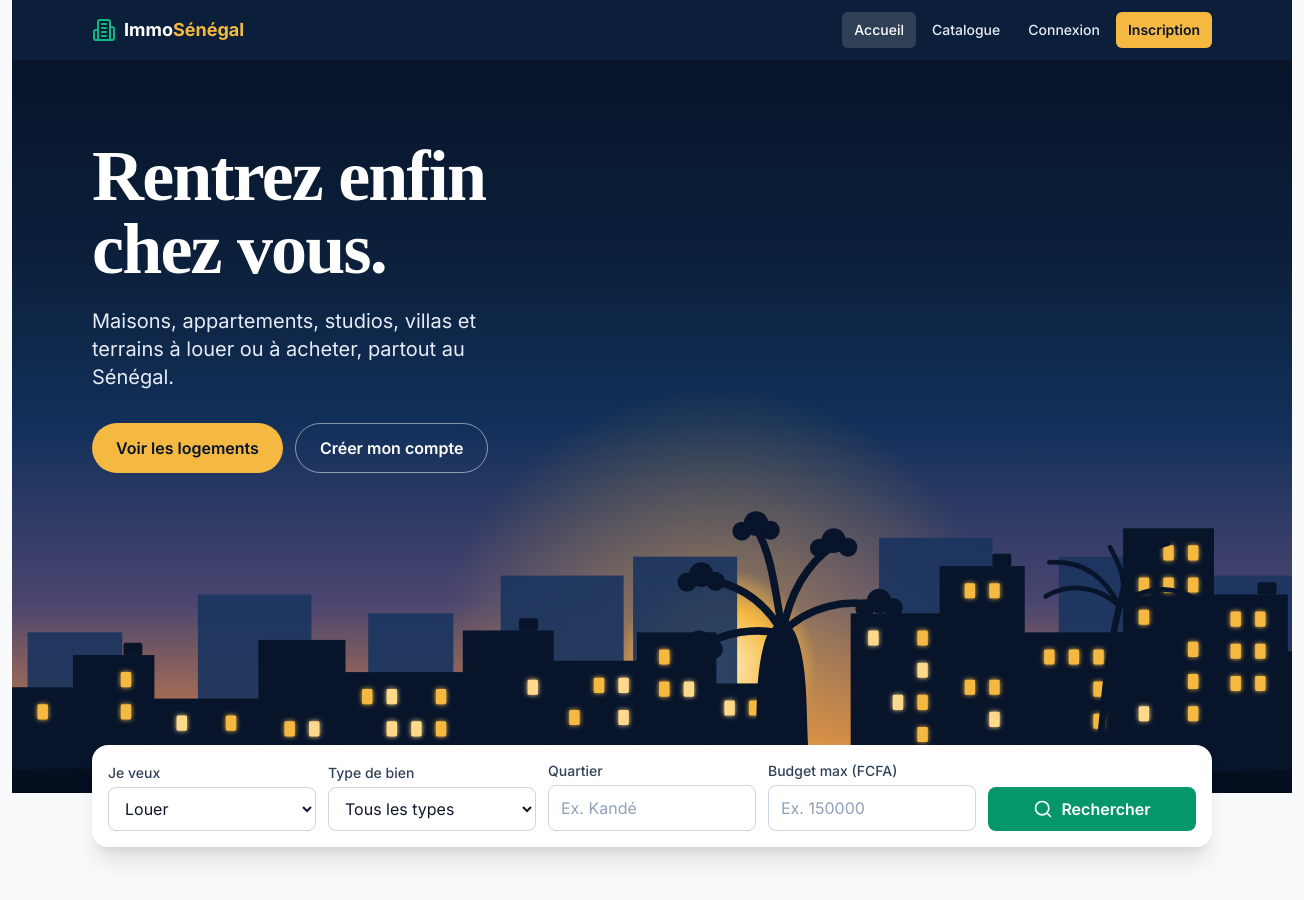
Scenario: Accueil › la recherche envoie les critères saisis vers le catalogue et vers l'API
The width and height of the screenshot is (1304, 900).
Select "Acheter" in the dropdown labelled "Je veux" at (212, 809), box [108,787,316,831]
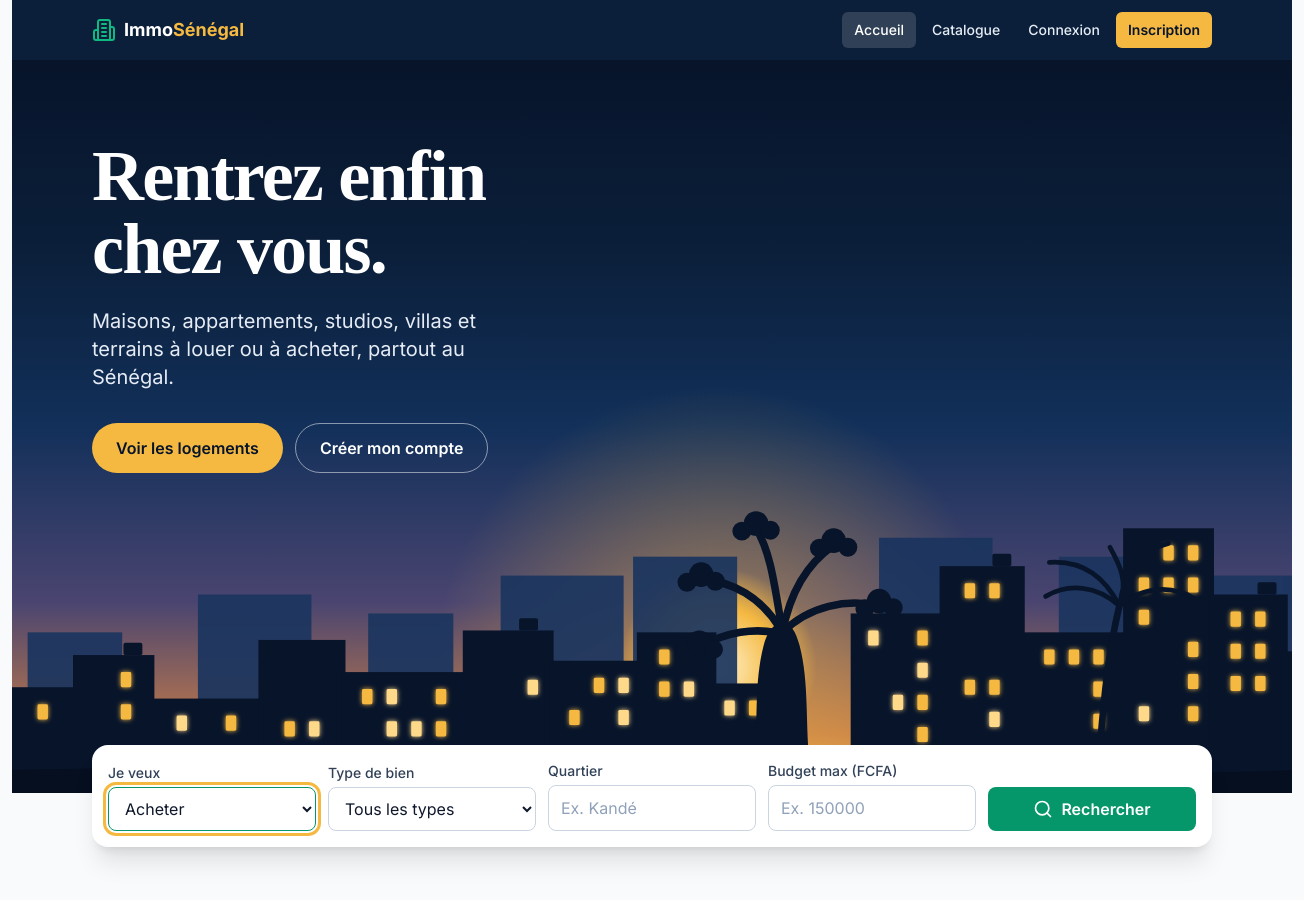
Select "Villa" in the dropdown labelled "Type de bien" at (432, 809), box [328,787,536,831]
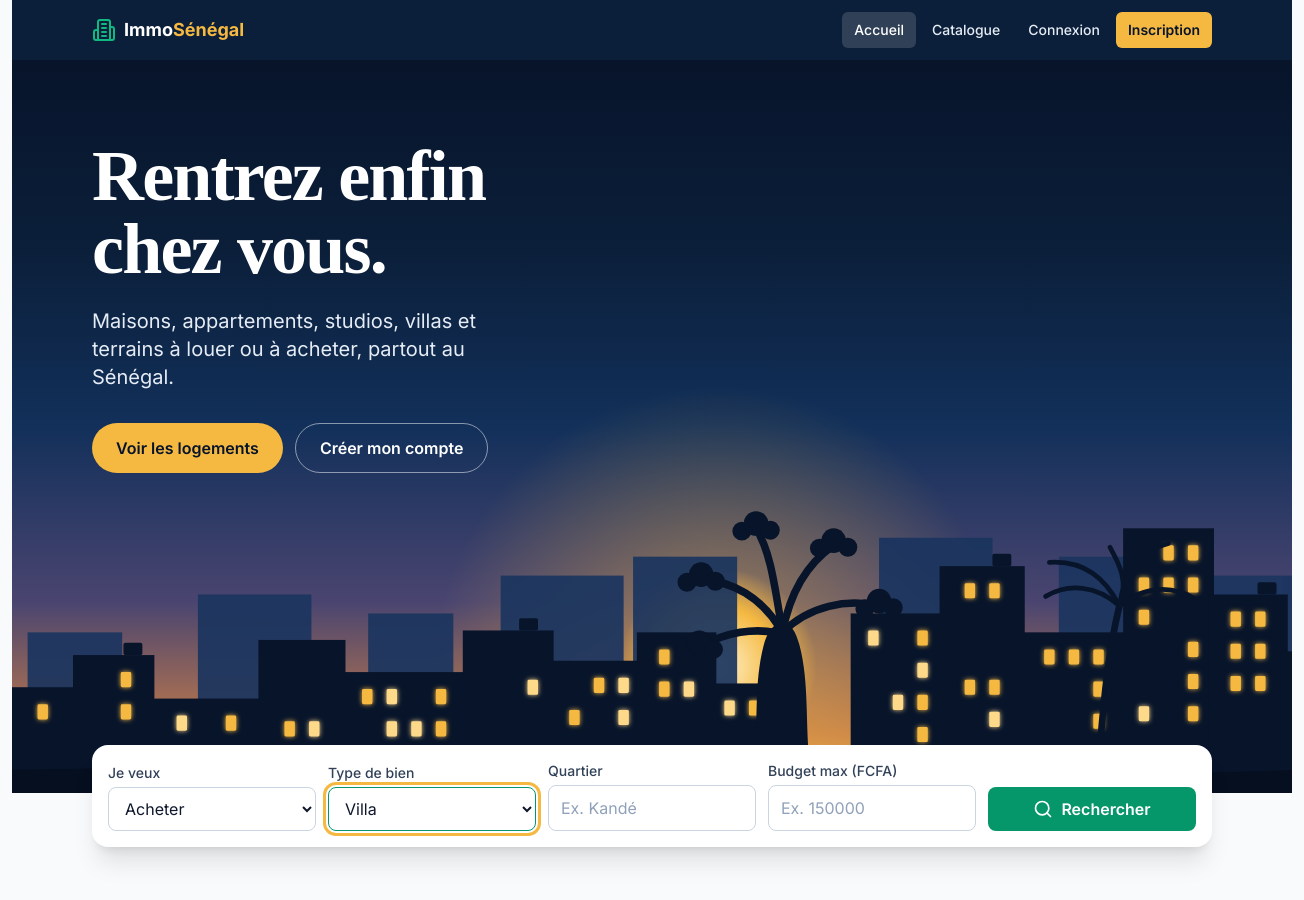
Type "Néma" into the field labelled "Quartier".
click(652, 808); type("Néma")  # box [548,785,756,831]
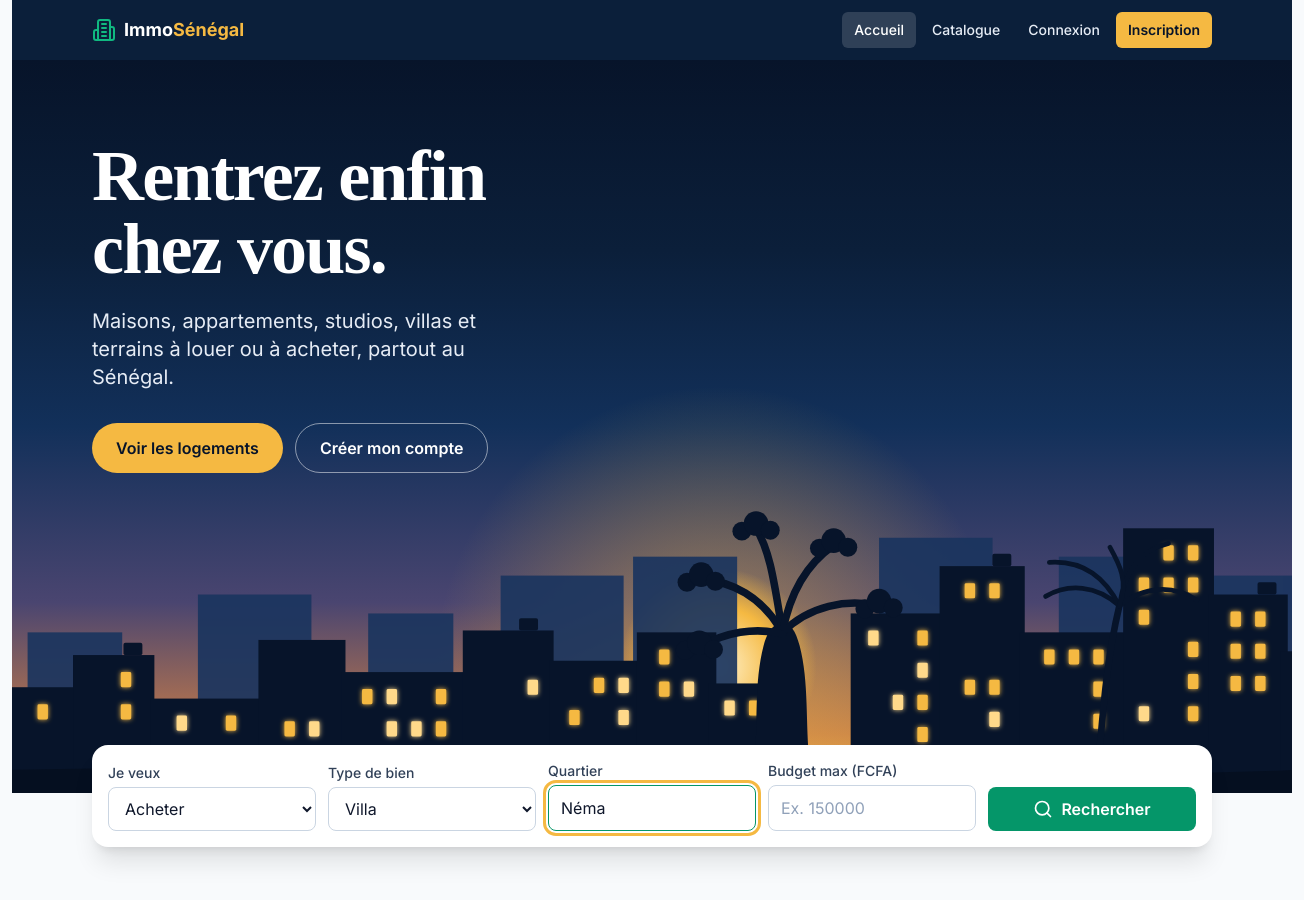
Type "50000000" into the number field labelled "Budget max (FCFA)".
click(872, 808); type("50000000")  # box [768,785,976,831]
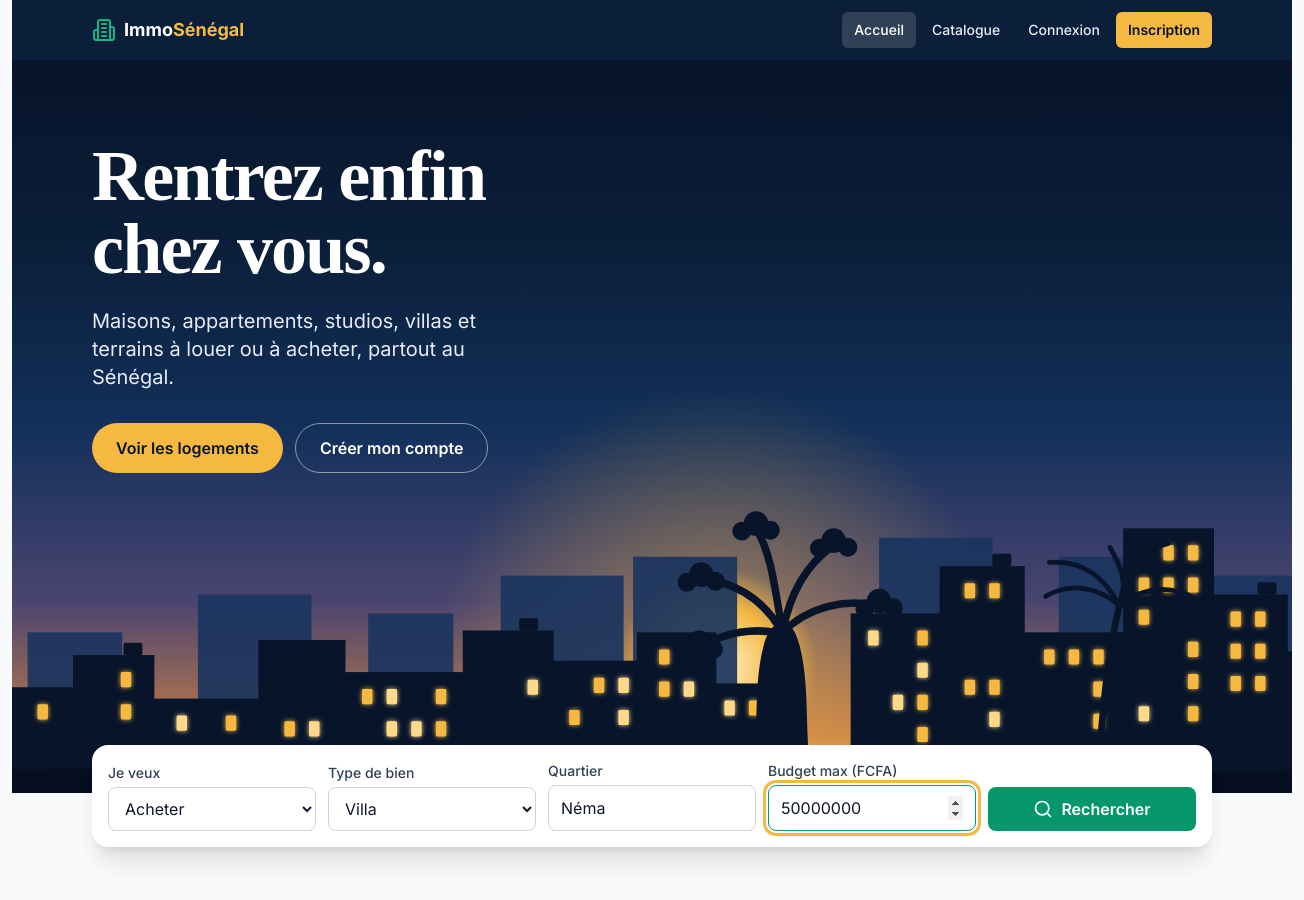
Click the button "Rechercher".
click(1092, 809)  # box [988,787,1196,831]
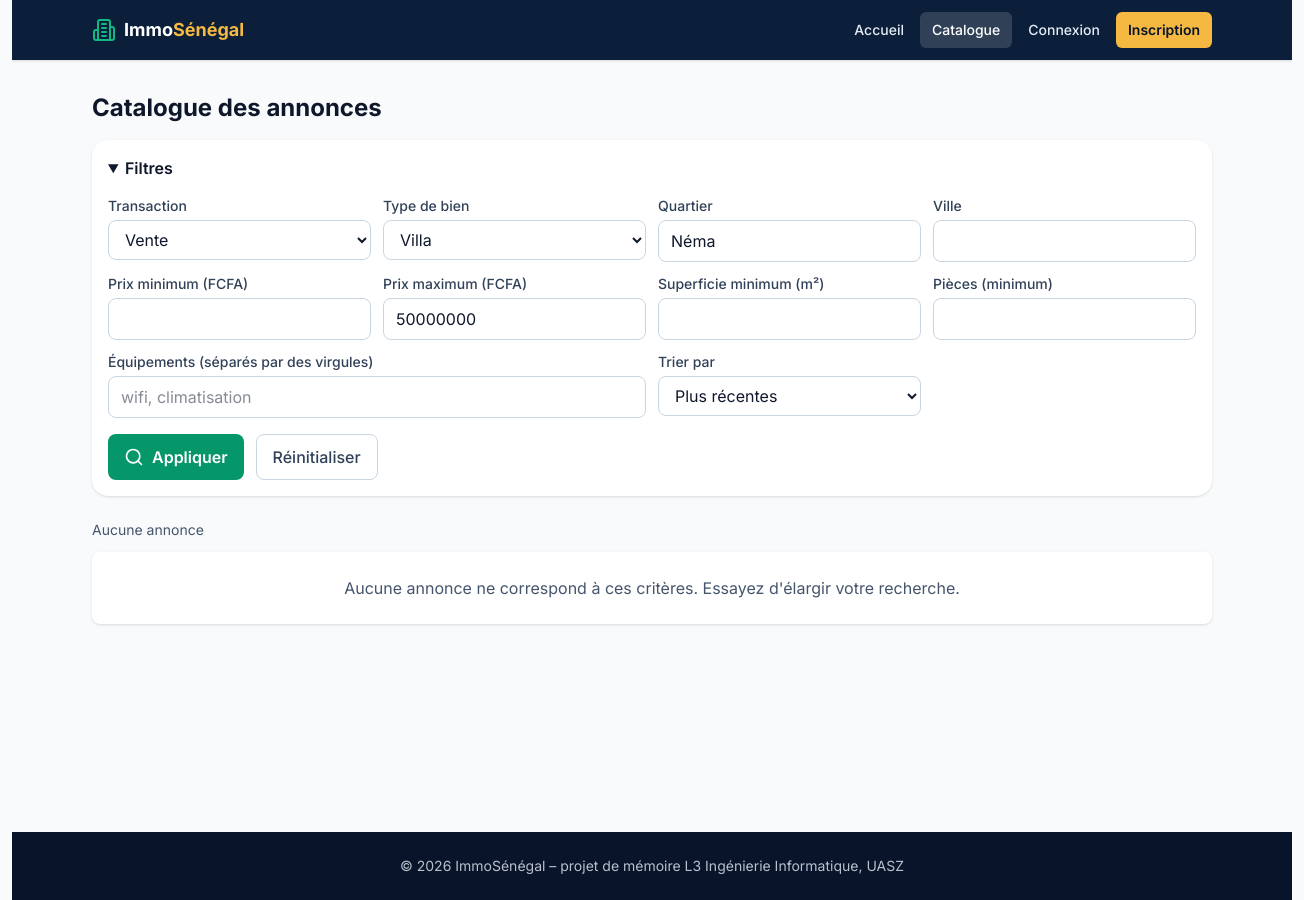
Check: the heading "Catalogue des annonces" is shown, box [92,93,382,122]
Check: the dropdown labelled "Transaction" shows "Vente", box [108,220,371,260]
Check: the dropdown labelled "Type de bien" shows "Villa", box [383,220,646,260]
